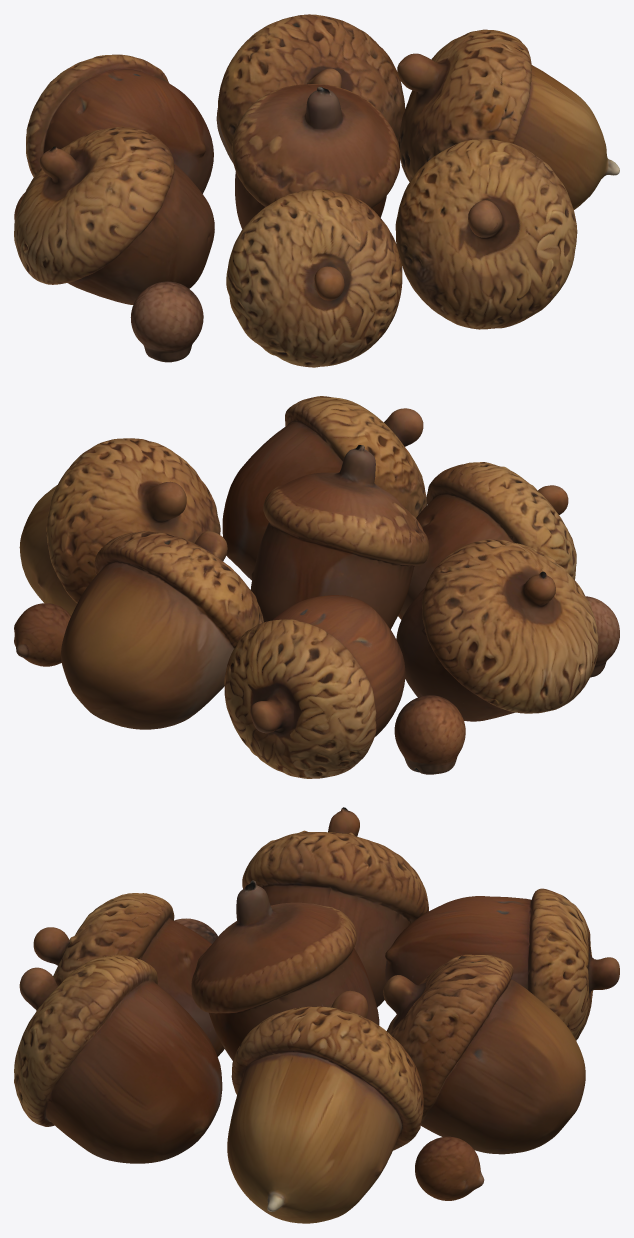
Rendered from nature-acorn.glb.
3 renders of one model, top to bottom at view 1: azimuth 30°, elevation 25°; view 2: azimuth 150°, elevation 25°; view 3: azimuth 270°, elevation 25°, orthographic. The views are drawn at different scales.
Parts seen in each view (by area): view 1: tripo_node_4e112a39-99bb-42cb-9a7e-67bef5796385; view 2: tripo_node_4e112a39-99bb-42cb-9a7e-67bef5796385; view 3: tripo_node_4e112a39-99bb-42cb-9a7e-67bef5796385.
Part boxes in pixels (x1=…): tripo_node_4e112a39-99bb-42cb-9a7e-67bef5796385: x1=14, y1=14, x2=619, y2=367; tripo_node_4e112a39-99bb-42cb-9a7e-67bef5796385: x1=14, y1=396, x2=619, y2=778; tripo_node_4e112a39-99bb-42cb-9a7e-67bef5796385: x1=14, y1=807, x2=619, y2=1223.
Bounding box in the file's own units: 0.2894 × 0.1 × 0.258.
1 material, 1 textured.
